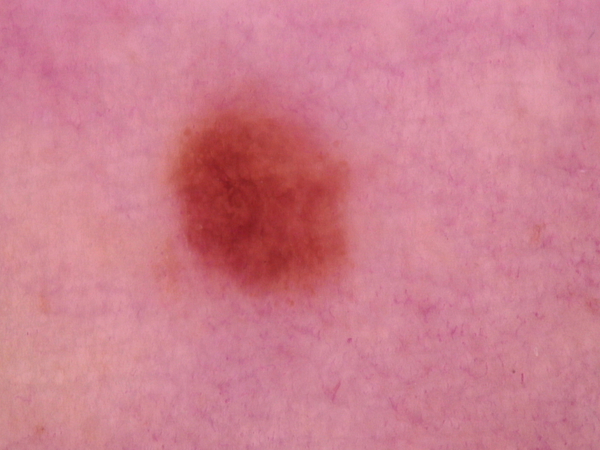Detected Lesion: (163, 85, 359, 314)
